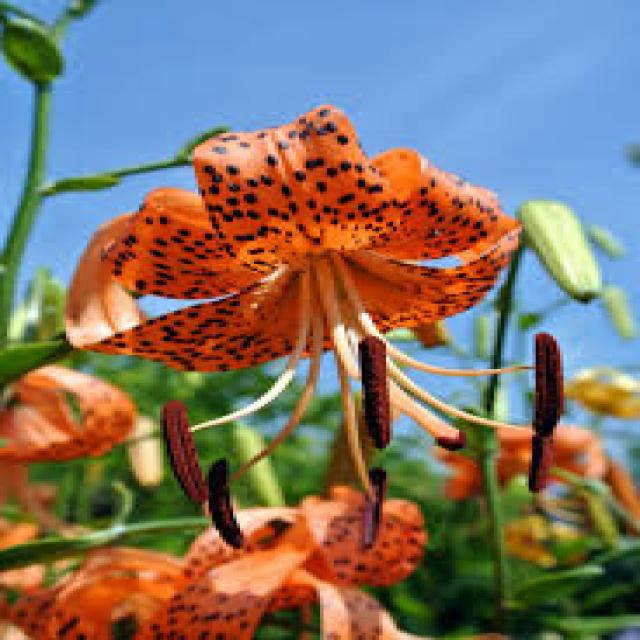lily: (35, 106, 579, 558)
